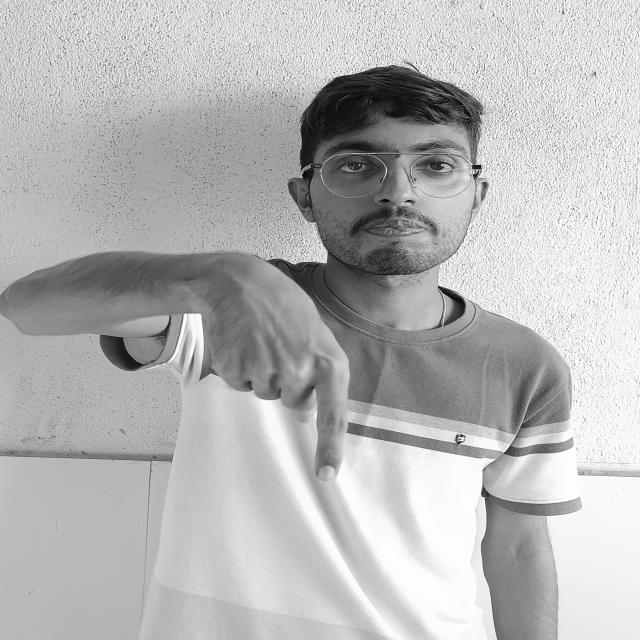Now: (122, 235, 431, 510)
